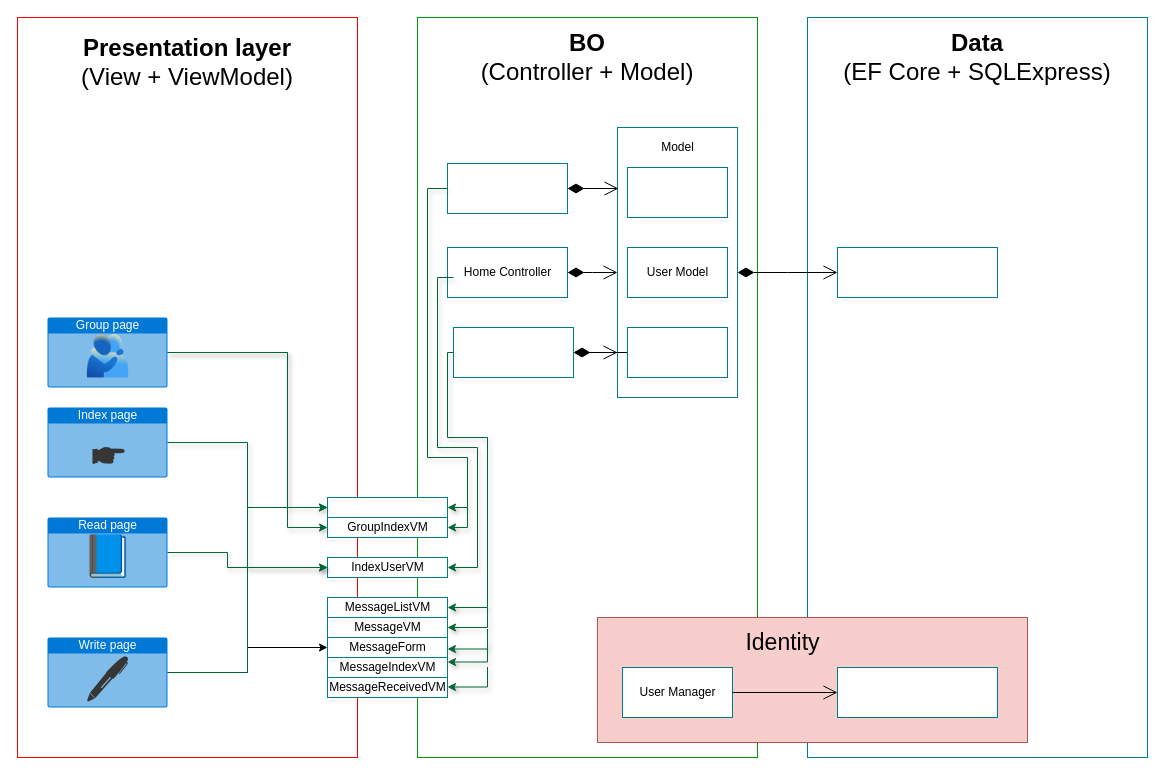
Image size: 1165x775. Some labels were removed from this diagram. Here are the shapes that lost their labels. From the top down, the centre of each, then its label:
(x=507, y=188): Group Controller
(x=677, y=192): Group Model
(x=917, y=272): Community Context
(x=513, y=352): Message Controller
(x=677, y=352): Message Model
(x=387, y=507): GroupVM
(x=917, y=692): Community Identity Context
